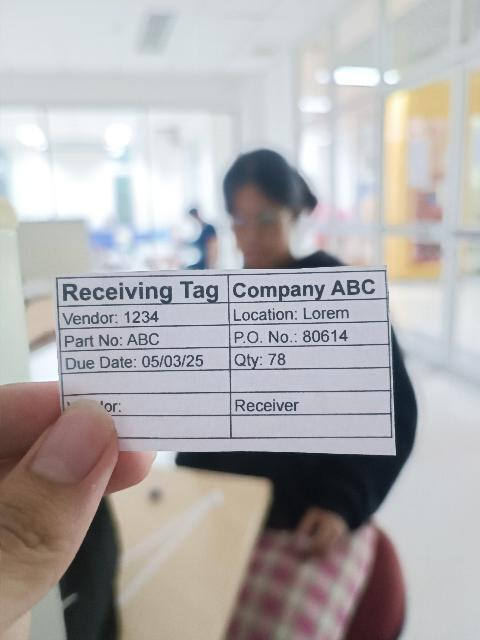PO no: (229, 320, 391, 349)
part no: (58, 324, 229, 350)
qty: (229, 346, 388, 372)
tags: (53, 266, 402, 461)
